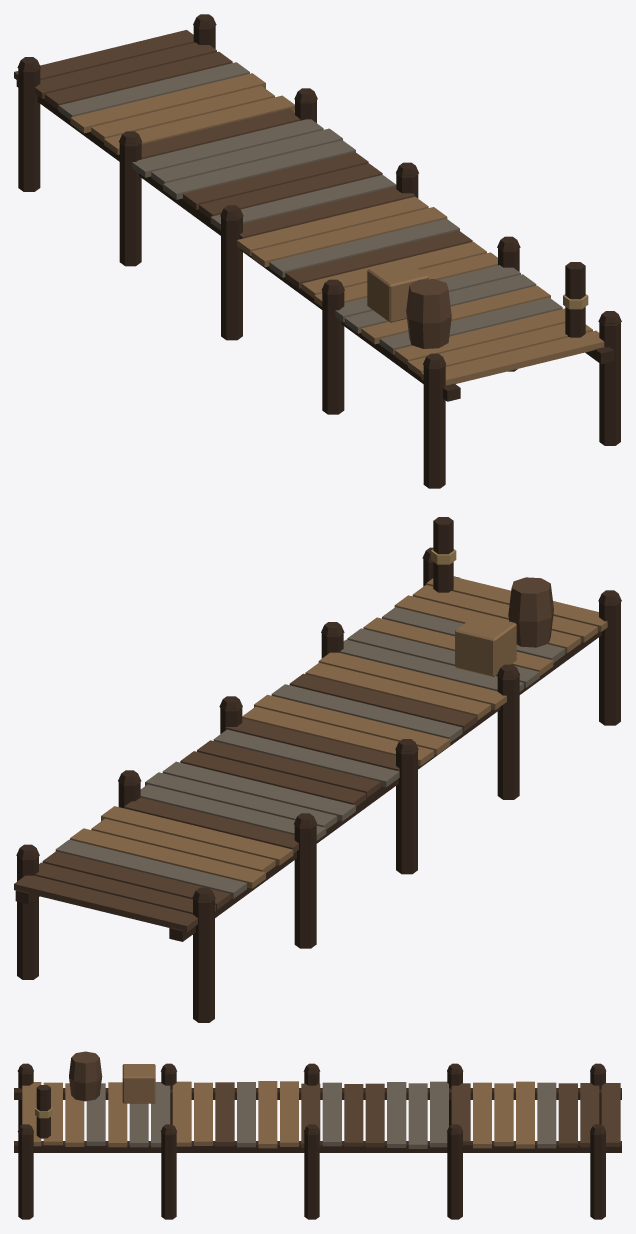
Rendered from forest_jetty.glb.
3 renders of one model, top to bottom at view 1: azimuth 30°, elevation 25°; view 2: azimuth 150°, elevation 25°; view 3: azimuth 270°, elevation 25°, orthographic. The views are drawn at different scales.
Visible parts, largest first — view 1: forest_jetty; view 2: forest_jetty; view 3: forest_jetty.
Boxes of the visible parts, box(x1,y1,x2,y2) form: forest_jetty: box(14, 14, 621, 488); forest_jetty: box(14, 517, 621, 1022); forest_jetty: box(14, 1051, 621, 1219).
Size of the model in its own units: 2.64 by 2.25 by 10.2.
